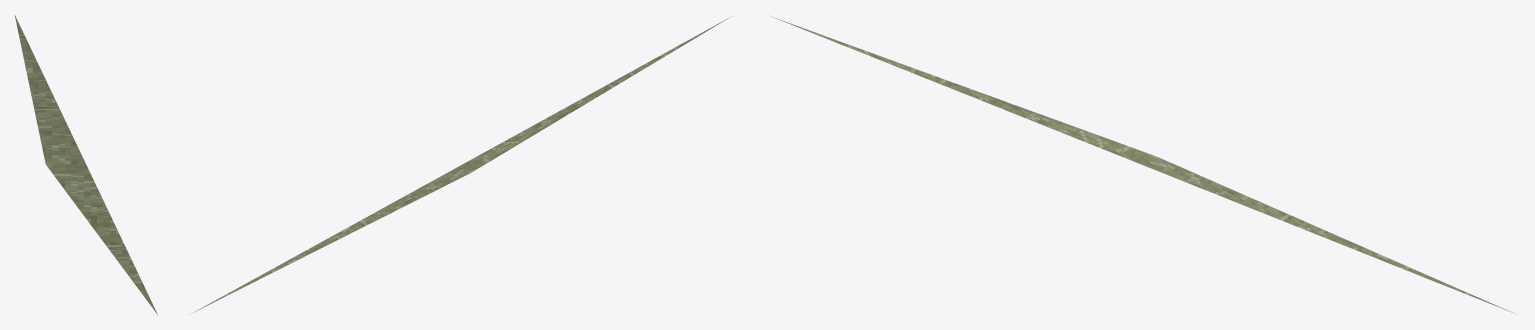
The model's file is kd_stage_135ded_4_123_bounded_piece_6.glb.
The picture shows the model from 3 angles, left to right: view 1: azimuth 90°, elevation 25°; view 2: azimuth 210°, elevation 25°; view 3: azimuth 330°, elevation 25°; orthographic projection. The views are drawn at different scales.
Visible parts, largest first — view 1: kd_stage_135ded_4_123_bounded_piece_6; view 2: kd_stage_135ded_4_123_bounded_piece_6; view 3: kd_stage_135ded_4_123_bounded_piece_6.
Boxes of the visible parts, <box> form: kd_stage_135ded_4_123_bounded_piece_6: <box>14,15,157,314</box>; kd_stage_135ded_4_123_bounded_piece_6: <box>189,16,731,314</box>; kd_stage_135ded_4_123_bounded_piece_6: <box>769,15,1516,314</box>.
Bounding box in the file's own units: 0.8024 × 0.1734 × 0.0868.
Materials: 1 (1 with a texture image).
